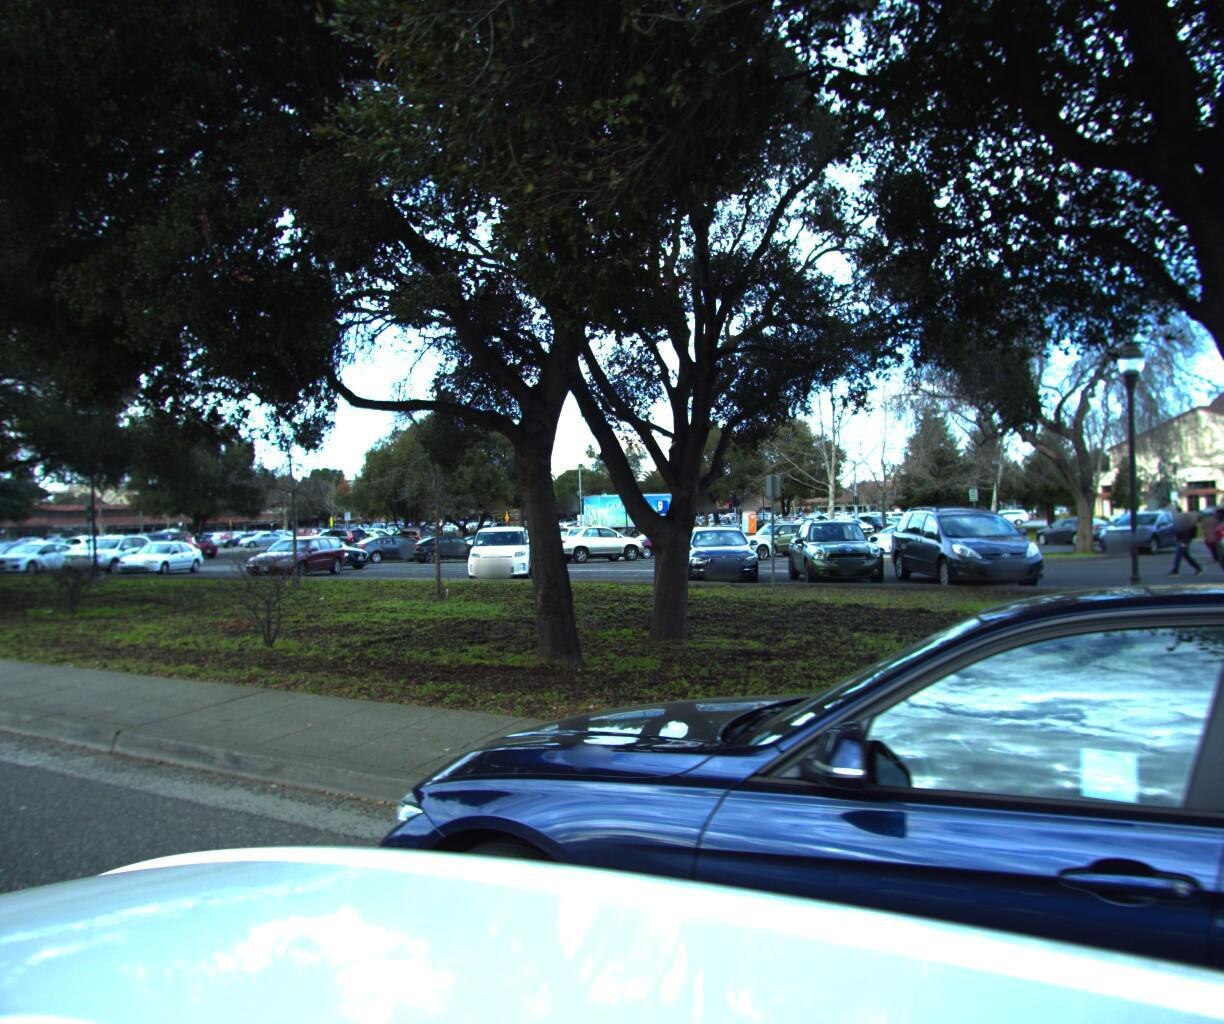car: (248, 550, 1224, 1024), (237, 524, 295, 542)
